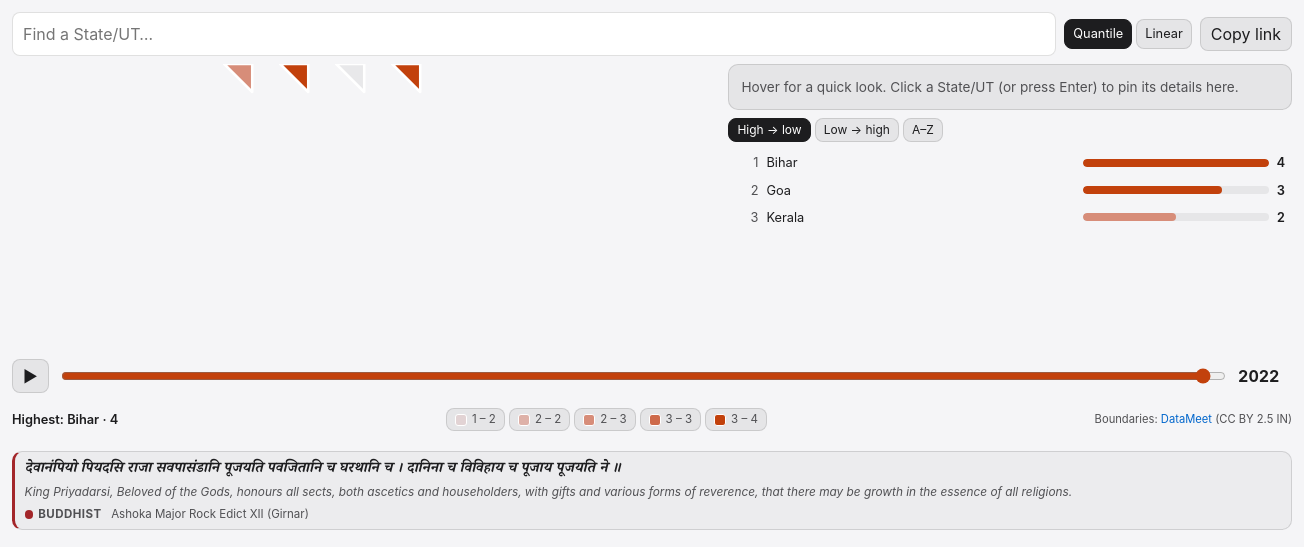
India in Maps › plays through periods when the data has a time series
Expected: the slider named "Period" is shown, 61,354 -> 1226,398
Expected: the text "2022" is shown, 1238,366 -> 1280,386
Click the button named "Play": point(30, 376) 12,359 -> 49,393
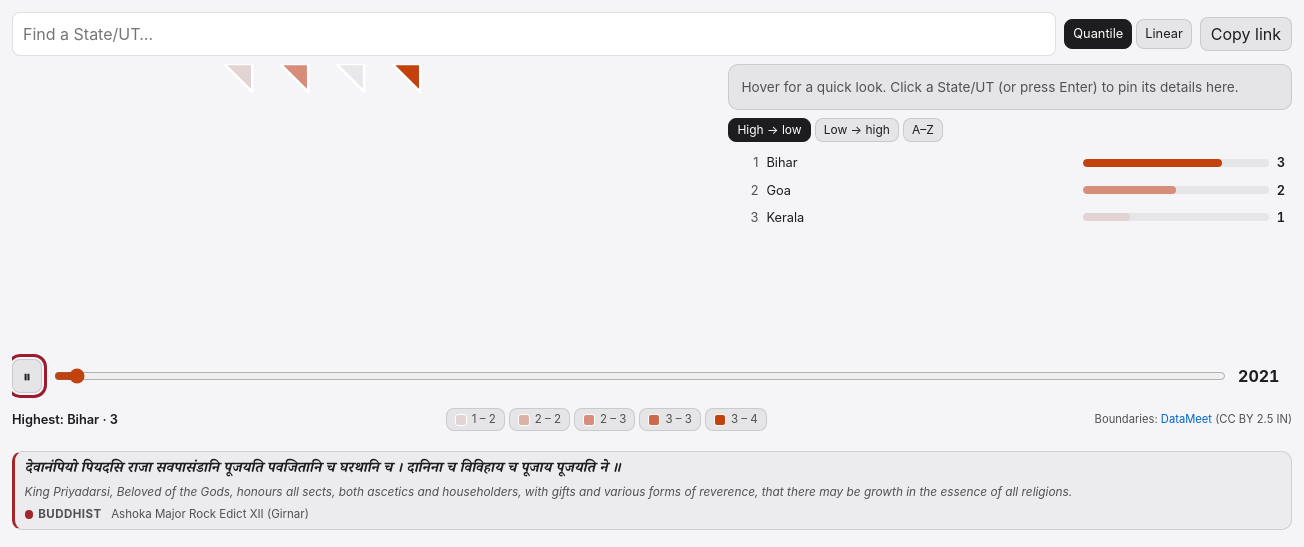
Expected: the text "2021" is shown, 1238,366 -> 1280,386
